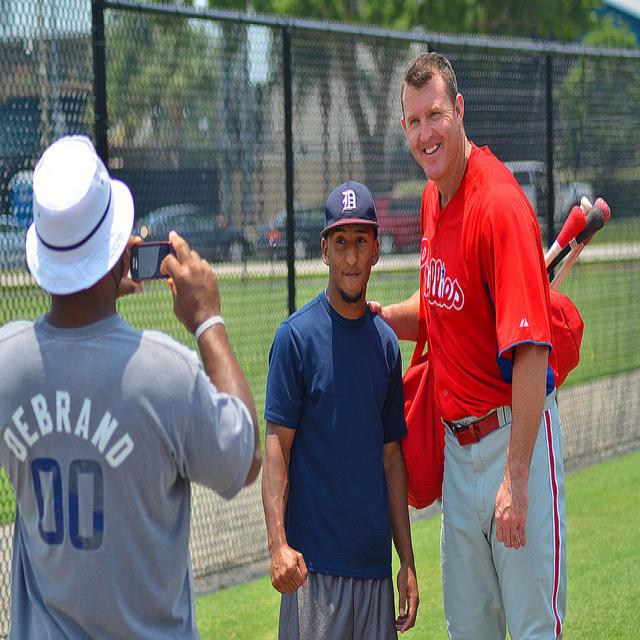Vehicle: (134, 200, 253, 262), (500, 159, 593, 233), (270, 204, 327, 260), (374, 192, 423, 255), (0, 215, 30, 272)
